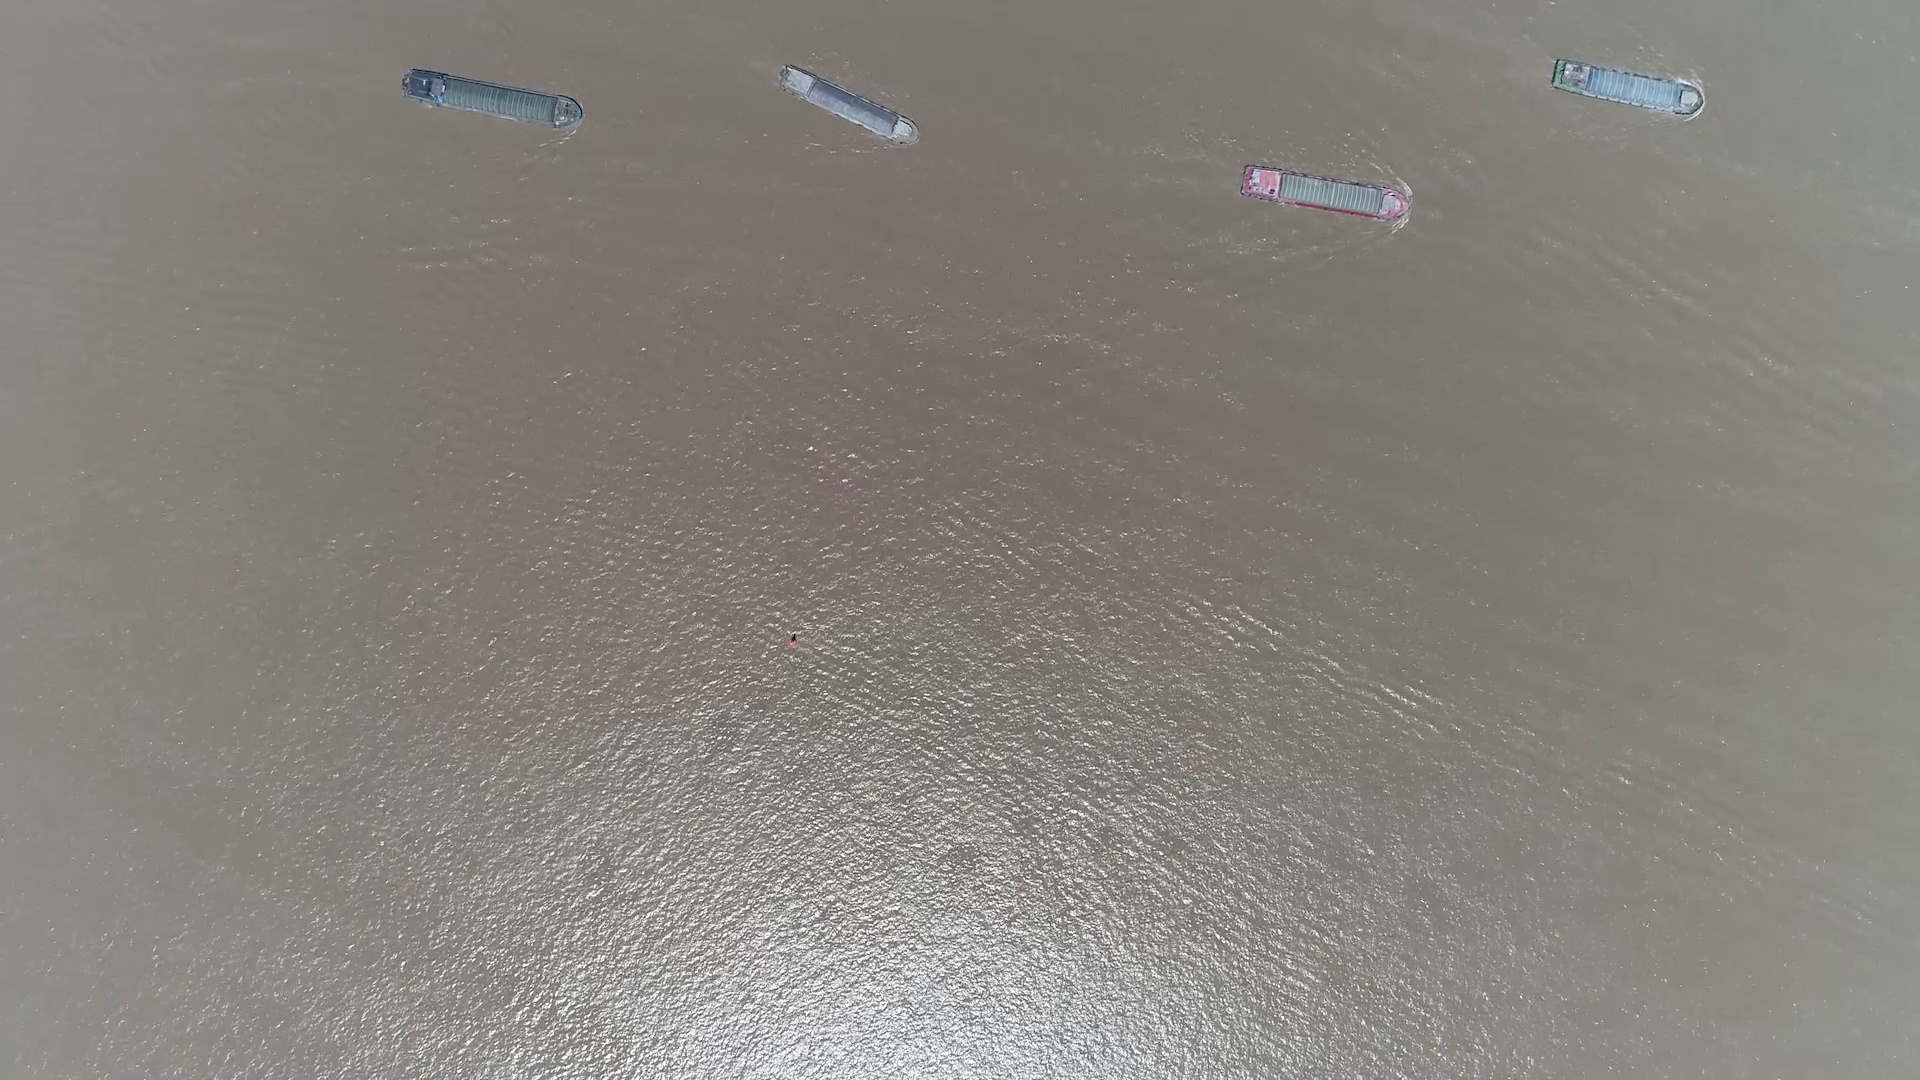ship: (400, 70, 583, 131), (779, 69, 916, 142), (1240, 167, 1412, 222), (1551, 63, 1702, 113)
